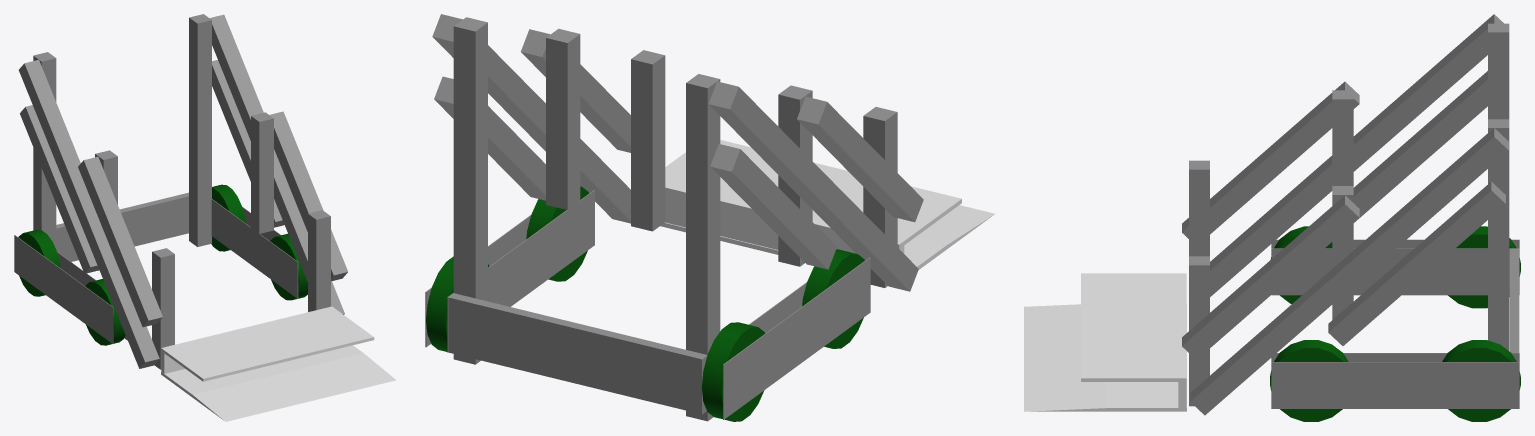
The model's file is shovelbot.FBX.
3 views of the same model, side by side, from view 1: azimuth 30°, elevation 25°; view 2: azimuth 150°, elevation 25°; view 3: azimuth 270°, elevation 25° (orthographic). The views are drawn at different scales.
Parts seen in each view (by area): view 1: Box025, Box026, Box015, Box006, Box014, Box019, Box004, Box005, Box002, Box018, Box016, Box020 (+10 smaller); view 2: Box002, Box006, Box015, Box007, Box004, Box020, Box024, Box005, Box014, Box016, Box019, Box026 (+12 smaller); view 3: Box003, Box026, Box014, Box015, Box025, Box017, Box018, Box001, Box016, Box019, Box006, Box007 (+10 smaller).
Part boxes in pixels (bbox=[...]): Box025: bbox=[161, 345, 396, 421]; Box026: bbox=[161, 306, 374, 381]; Box015: bbox=[18, 60, 159, 368]; Box006: bbox=[189, 14, 211, 246]; Box014: bbox=[209, 14, 344, 314]; Box019: bbox=[78, 156, 162, 327]; Box004: bbox=[14, 235, 113, 343]; Box005: bbox=[211, 199, 298, 298]; Box002: bbox=[56, 192, 188, 261]; Box018: bbox=[269, 111, 347, 281]; Box016: bbox=[20, 105, 98, 273]; Box020: bbox=[251, 112, 273, 233]; Box002: bbox=[448, 293, 706, 413]; Box006: bbox=[453, 17, 487, 364]; Box015: bbox=[708, 81, 918, 291]; Box007: bbox=[686, 74, 720, 421]; Box004: bbox=[723, 257, 870, 419]; Box020: bbox=[546, 28, 580, 209]; Box024: bbox=[631, 50, 665, 231]; Box005: bbox=[447, 190, 594, 352]; Box014: bbox=[432, 14, 630, 223]; Box016: bbox=[710, 144, 836, 269]; Box019: bbox=[797, 96, 923, 222]; Box026: bbox=[665, 140, 961, 248]; Box003: bbox=[1271, 362, 1519, 408]; Box026: bbox=[1081, 273, 1186, 381]; Box014: bbox=[1190, 128, 1508, 415]; Box015: bbox=[1210, 14, 1503, 296]; Box025: bbox=[1024, 303, 1186, 411]; Box017: bbox=[1328, 181, 1505, 345]; Box018: bbox=[1182, 195, 1359, 359]; Box001: bbox=[1271, 248, 1519, 295]; Box016: bbox=[1353, 71, 1487, 222]; Box019: bbox=[1182, 81, 1359, 238]; Box006: bbox=[1488, 119, 1509, 350]; Box007: bbox=[1488, 23, 1509, 119].
Bounding box in the file's own units: 0.3571 × 0.3869 × 0.6099.
